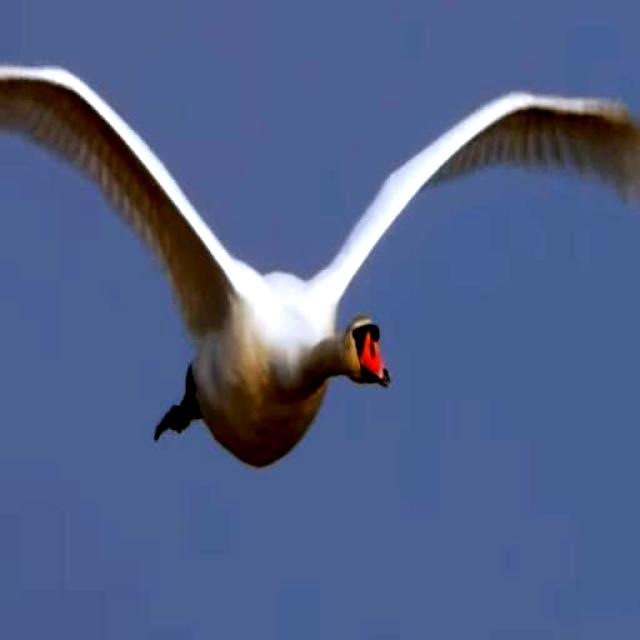airplane: (0, 1, 640, 484)
